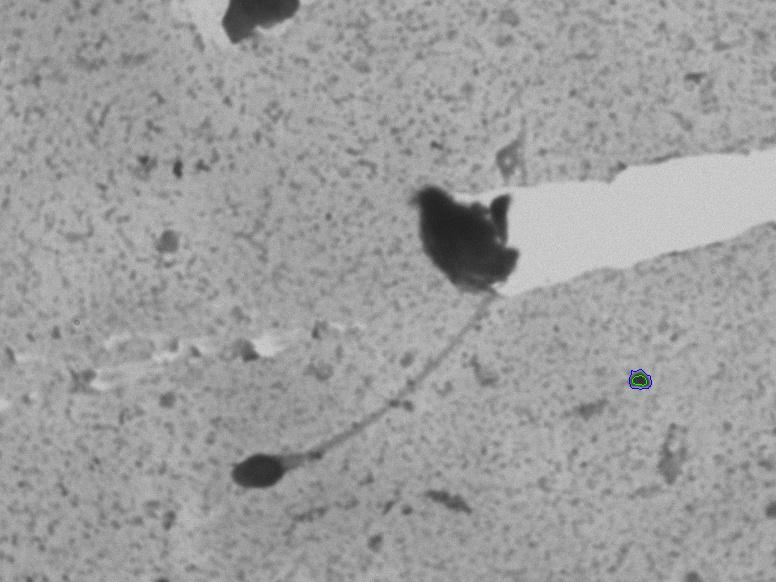Abnormal: (208, 275, 498, 501)
